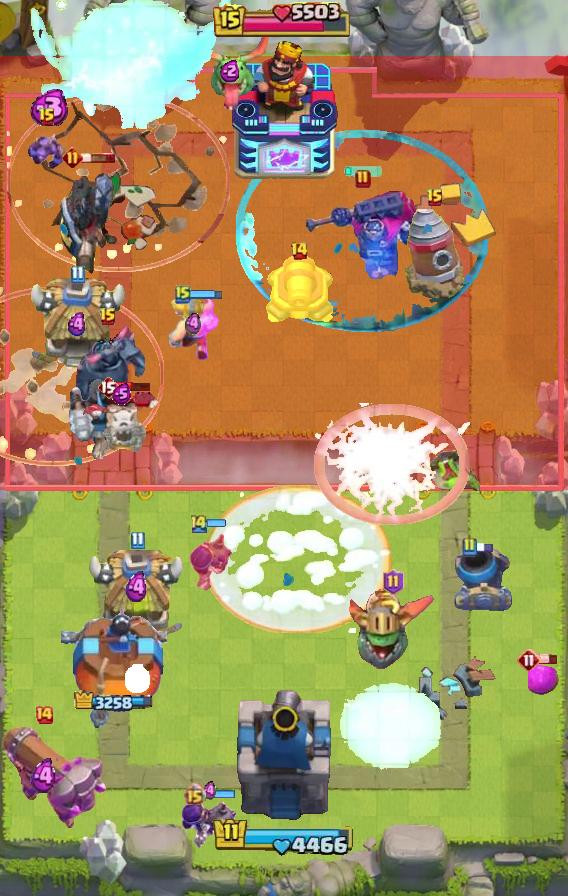bar-level: (426, 446, 484, 494)
barbarian-evolution: (312, 403, 470, 525)
clock: (212, 816, 356, 858), (213, 2, 355, 40)
electro-spirit: (26, 90, 70, 127), (30, 757, 58, 794), (125, 572, 149, 604), (67, 311, 90, 336), (220, 58, 241, 82), (113, 383, 132, 405), (185, 312, 201, 336), (203, 781, 216, 801)
electro-wizard: (188, 32, 272, 110)
elixir: (126, 663, 151, 692)
emote: (80, 152, 116, 164), (188, 288, 224, 300), (116, 381, 152, 392), (203, 789, 237, 800), (475, 541, 494, 553), (207, 518, 226, 529), (539, 654, 558, 665)
furnace: (0, 723, 108, 833)
goblin-ball: (179, 792, 239, 850), (190, 526, 234, 592)
goblin-giant: (168, 295, 219, 361)
golemite: (71, 322, 145, 424)
guard: (6, 92, 229, 272), (0, 287, 164, 466)
ice-spirit: (342, 166, 384, 178)
inferno-dragon: (58, 158, 116, 278), (67, 378, 129, 468)
inferno-tower: (303, 187, 423, 279)
king-tower: (230, 41, 338, 181), (232, 686, 336, 826)
magic-archer: (402, 204, 468, 302)
mega-knight: (9, 1, 231, 156), (338, 681, 444, 775)
miner: (528, 665, 560, 695)
mini-pekka: (81, 392, 161, 454)
musketeer: (454, 547, 514, 611)
night-witch: (349, 587, 437, 673)
pad_0: (236, 130, 490, 336)
phoenix-big: (204, 485, 392, 633)
prince: (26, 278, 128, 374), (86, 550, 188, 646)
queen-tower: (61, 603, 167, 731)
royal-delivery: (26, 132, 68, 172)
royal-recruit: (263, 254, 335, 328)
selected: (73, 690, 154, 714)
text: (517, 648, 541, 672), (383, 569, 405, 595), (182, 783, 205, 806), (97, 375, 119, 399), (62, 147, 83, 168), (189, 513, 209, 534), (290, 241, 310, 261), (34, 705, 54, 725), (38, 107, 56, 127), (426, 188, 444, 208), (99, 307, 117, 327), (355, 169, 371, 189), (175, 284, 191, 304), (461, 537, 477, 557), (131, 531, 146, 550), (71, 265, 85, 284)
